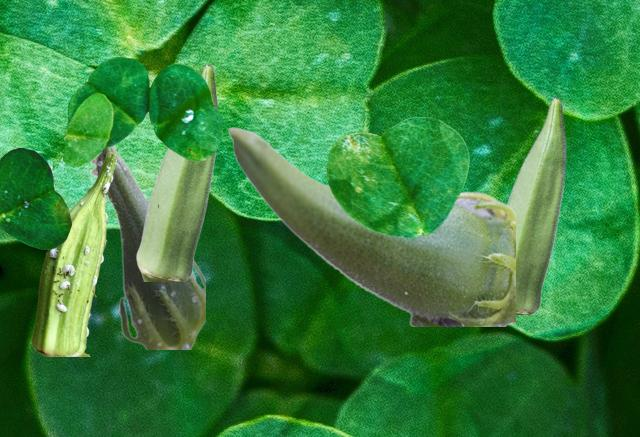okra: (227, 126, 514, 325), (89, 145, 204, 348), (136, 64, 217, 280), (32, 152, 116, 355), (507, 97, 565, 313)
